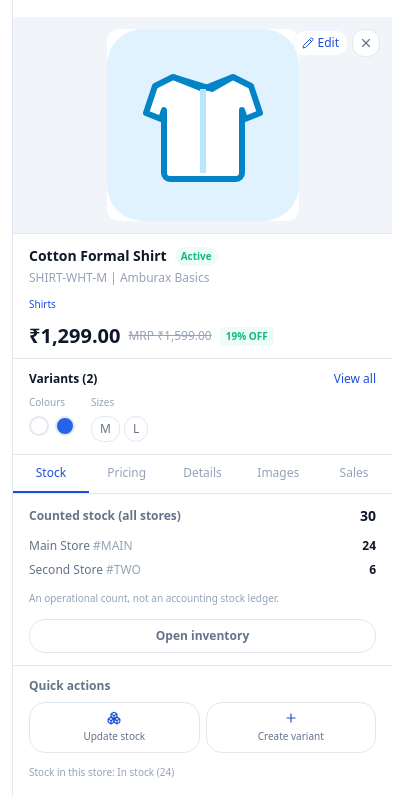
Test: a product that has never sold says so instead of showing zeroes
(page scrolled)
Click the tab "Sales". click: [354, 474]
box: [316, 455, 392, 493]
(page scrolled)
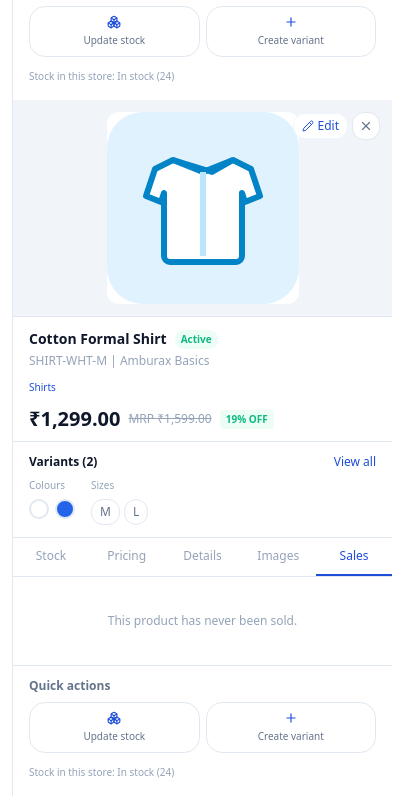
Expected: the text "This product has never been sold." is shown, [108, 612, 297, 629]
